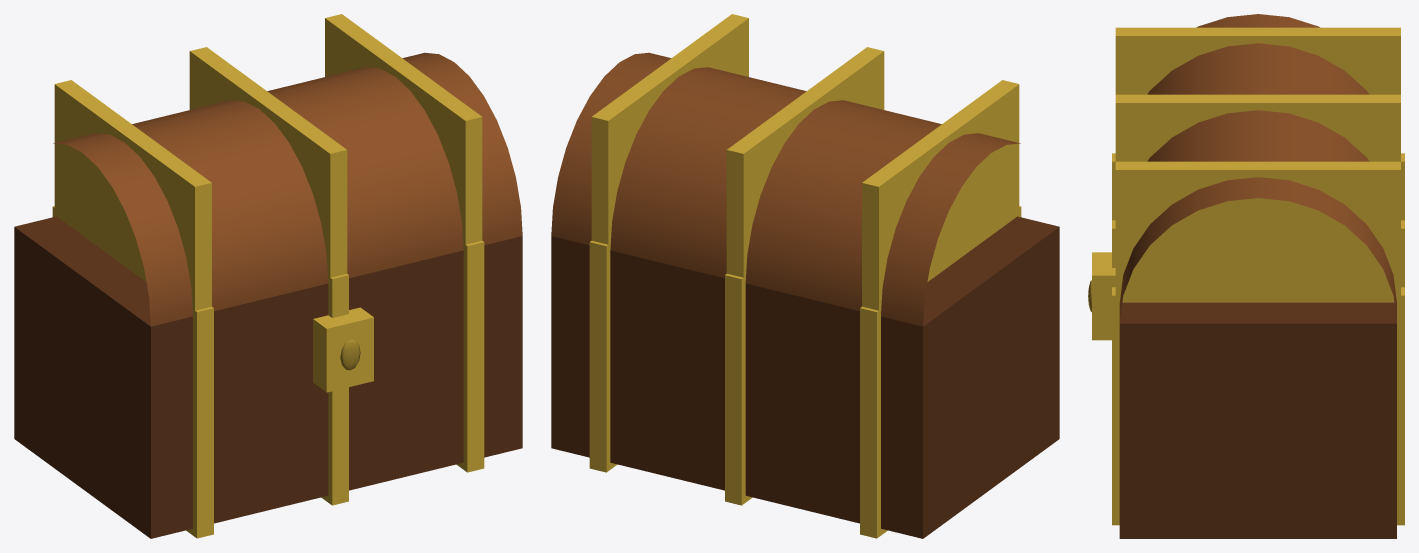
Rendered from treasure_chest.glb.
3 views of the same model, side by side, from view 1: azimuth 30°, elevation 25°; view 2: azimuth 150°, elevation 25°; view 3: azimuth 270°, elevation 25° (orthographic).
Visible parts, largest first — view 1: treasure_chest; view 2: treasure_chest; view 3: treasure_chest.
Boxes of the visible parts, x1=… form: treasure_chest: x1=14, y1=14, x2=522, y2=538; treasure_chest: x1=551, y1=14, x2=1059, y2=538; treasure_chest: x1=1088, y1=14, x2=1404, y2=538.
Bounding box in the file's own units: 0.55 × 0.495 × 0.4.
